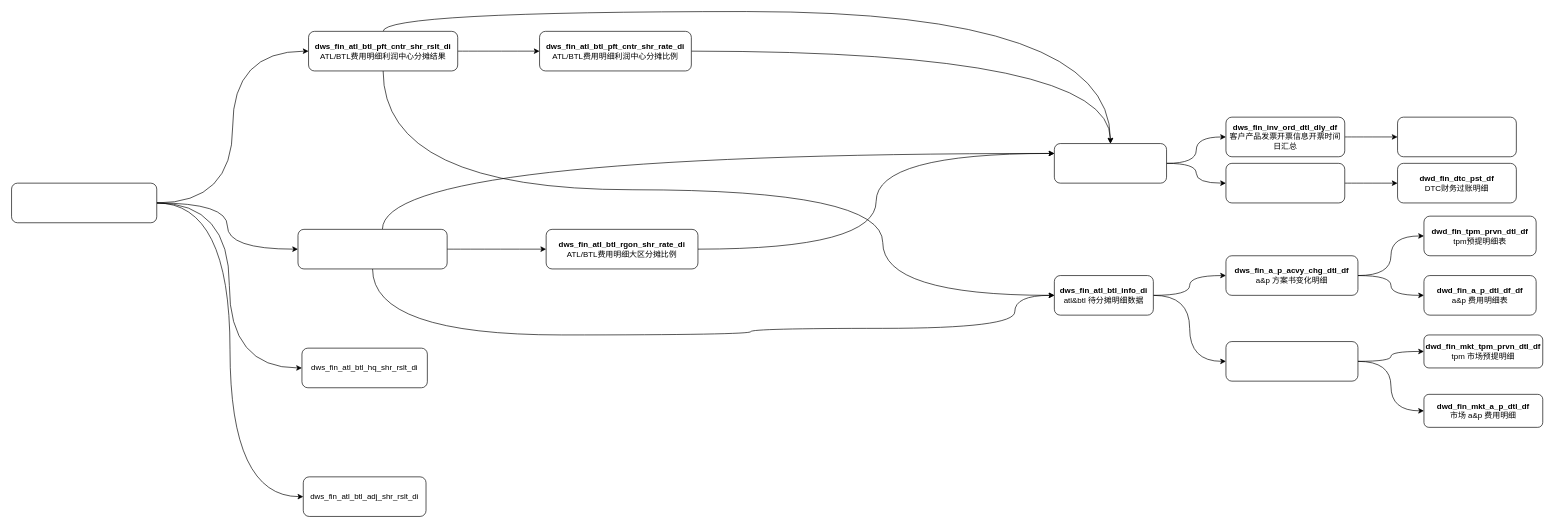
Some shapes in this 1554 by 528 pixel diagram are drawn without their labels. Each missing label, with the box of its shape:
ads_fin_atl_btl_cf_rpt_df: (11, 182, 157, 223)
dwd_fin_inv_dtl_df 发票开票明细: (1397, 116, 1516, 157)
dws_fin_a_p_acvy_chg_mkt_dtl_df 市场 a&p 方案书变化明细: (1225, 341, 1358, 381)
dws_fin_atl_btl_rgon_shr_rslt_di ATL/BTL费用明细大区分摊结果: (297, 229, 447, 269)
dws_fin_dtc_inv_dly_df 客户产品DTC汇总表: (1225, 163, 1345, 203)
dws_fin_inv_fytd_di 客户产品发票 DTC开票信息财年汇总: (1054, 143, 1167, 183)
